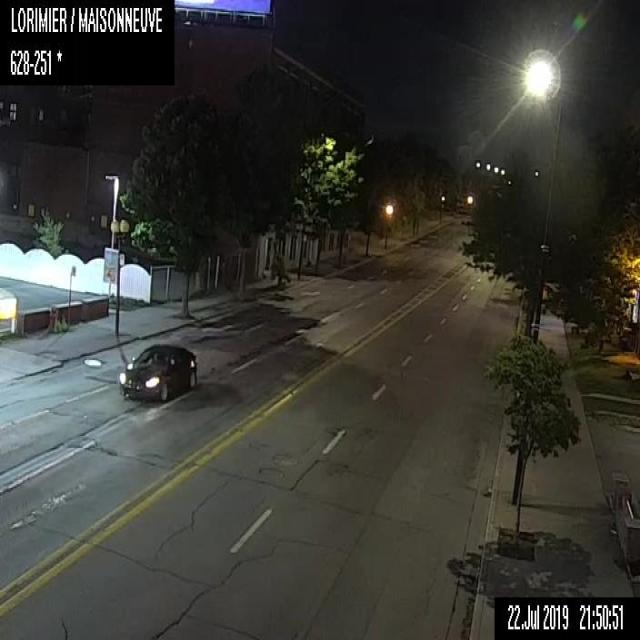vehicle: (118, 344, 198, 404)
